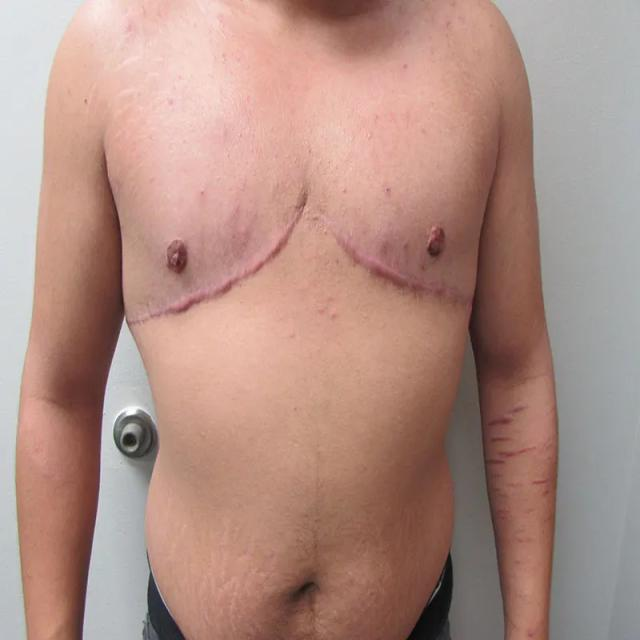Seno herido: (115, 153, 310, 344), (313, 151, 487, 345)
